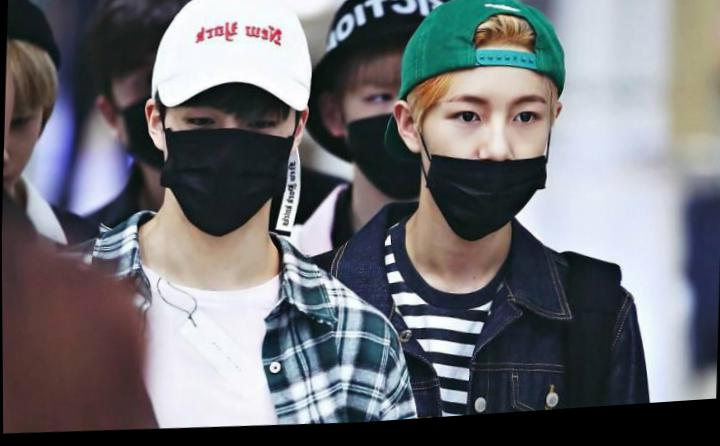NONE: (3, 98, 40, 196)
OK: (150, 99, 294, 242), (342, 80, 458, 210), (105, 45, 216, 177)
WRONG: (421, 80, 556, 246)
